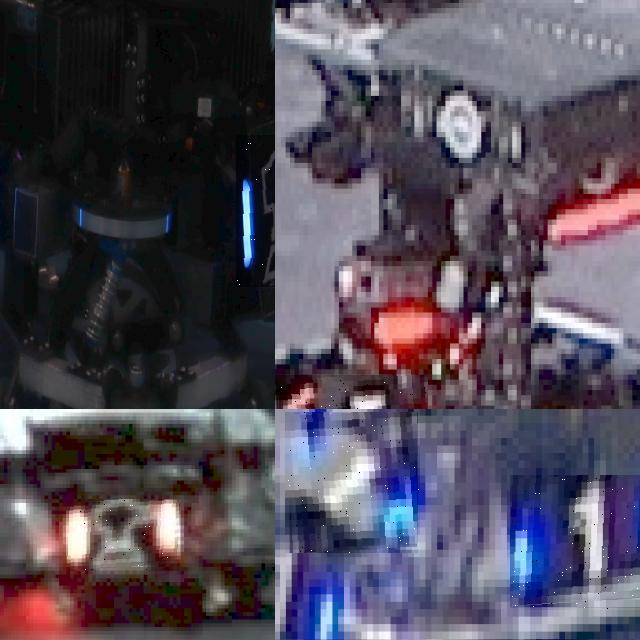B1: (286, 412, 420, 553), (509, 475, 640, 609), (275, 523, 352, 640)
Bs: (236, 135, 275, 287)
R1: (276, 374, 427, 409)
Rs: (66, 499, 180, 571)
